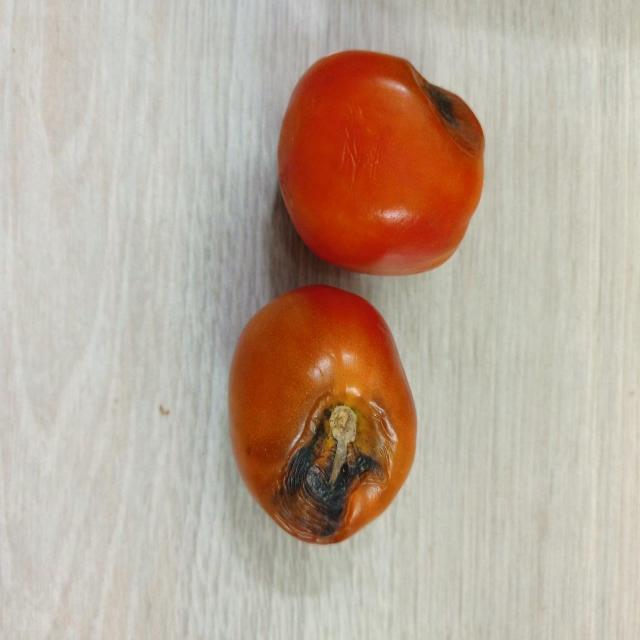Rotten: (229, 282, 416, 546), (274, 47, 486, 271)
